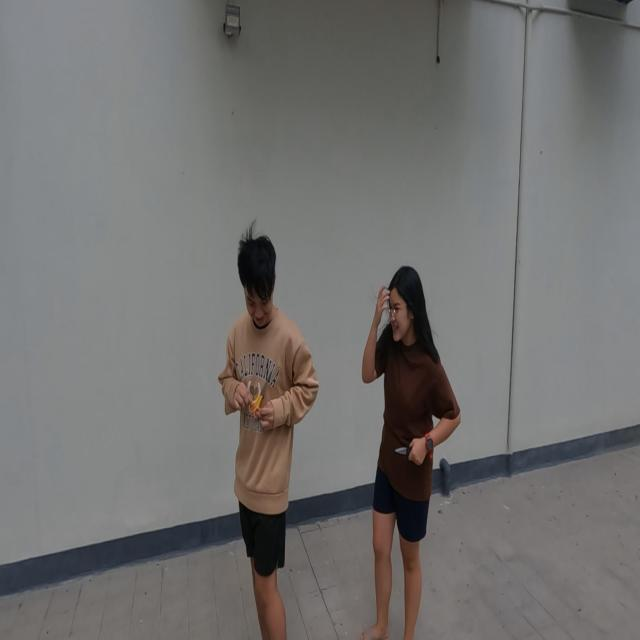scissor: (248, 372, 273, 419)
